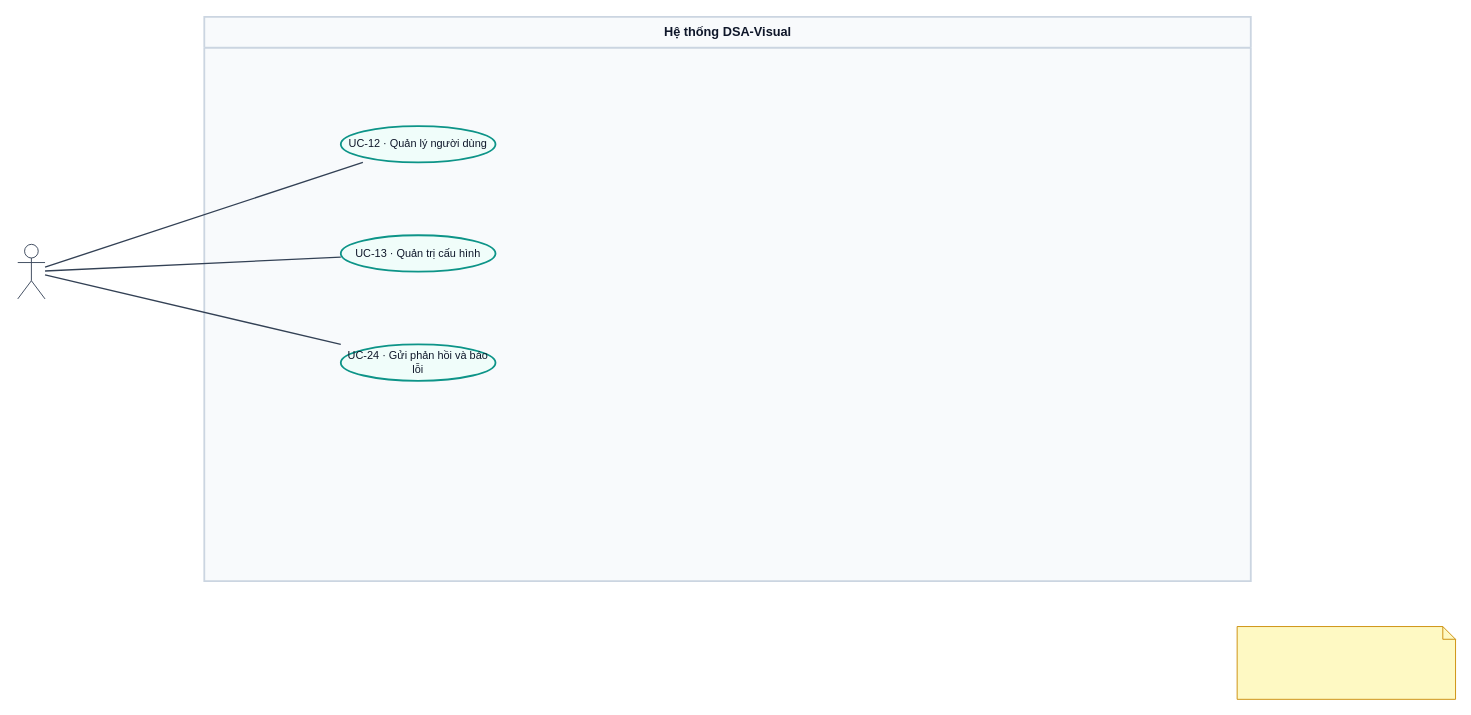
Some shapes in this 1471 by 715 pixel diagram are drawn without their labels. The box of each missing label's shape, as (x1, y1, x2, y2) in pixels:
Admin: (17, 243, 45, 299)
Không có include/extend giữa UC-12/13/24: (1236, 626, 1456, 699)
